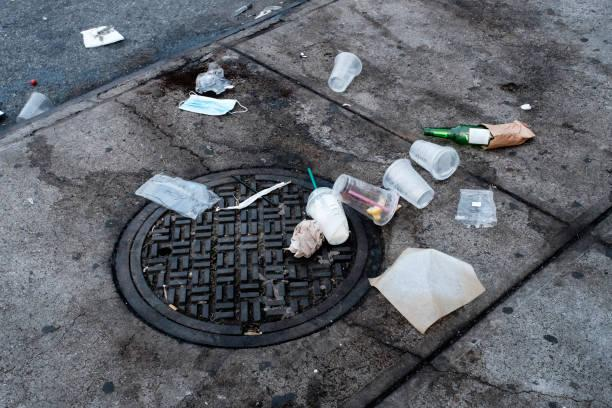trash: (349, 243, 491, 330), (420, 111, 550, 155), (131, 159, 223, 221), (296, 164, 357, 256), (328, 167, 405, 229), (223, 170, 296, 219), (381, 154, 436, 210), (411, 137, 460, 189), (447, 183, 494, 234), (76, 17, 127, 58), (280, 216, 326, 261), (191, 58, 238, 99), (174, 97, 253, 121), (330, 47, 367, 94), (25, 78, 54, 126), (246, 1, 285, 26), (222, 3, 253, 24)
